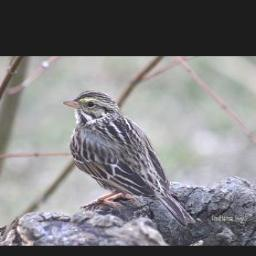Sparrow: (60, 88, 196, 228)
